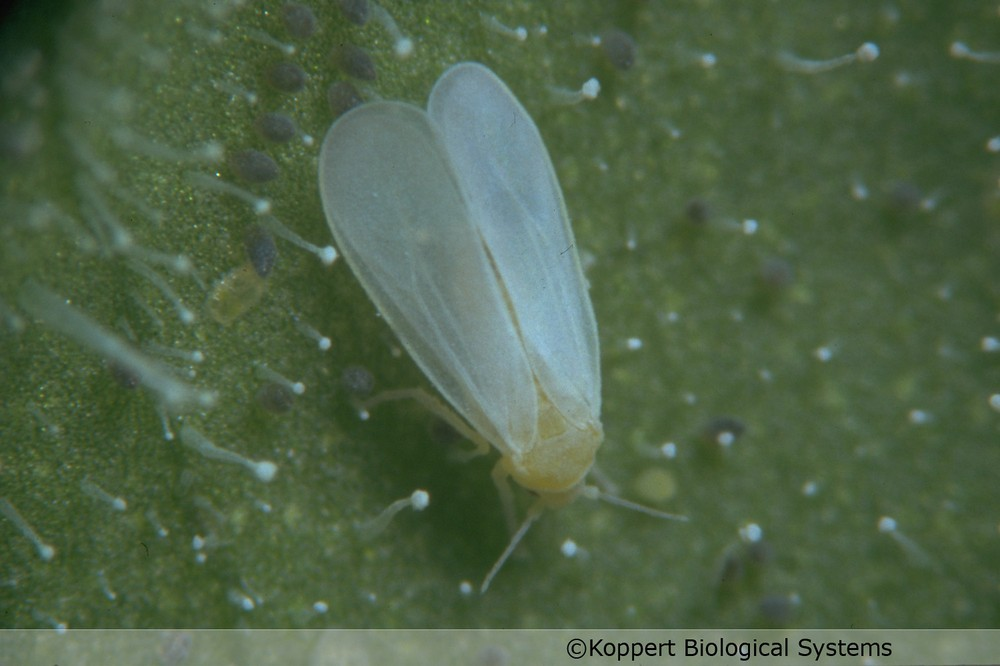Mosca Blanca: (303, 76, 713, 595)
